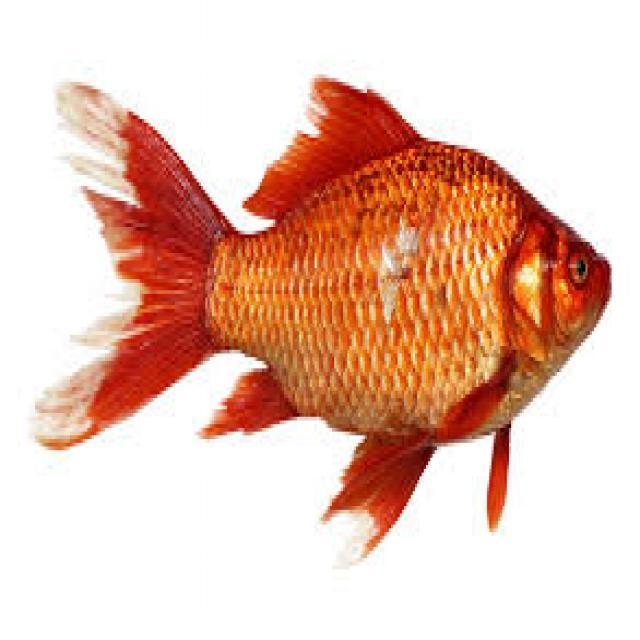goldfish: (36, 78, 610, 556)
